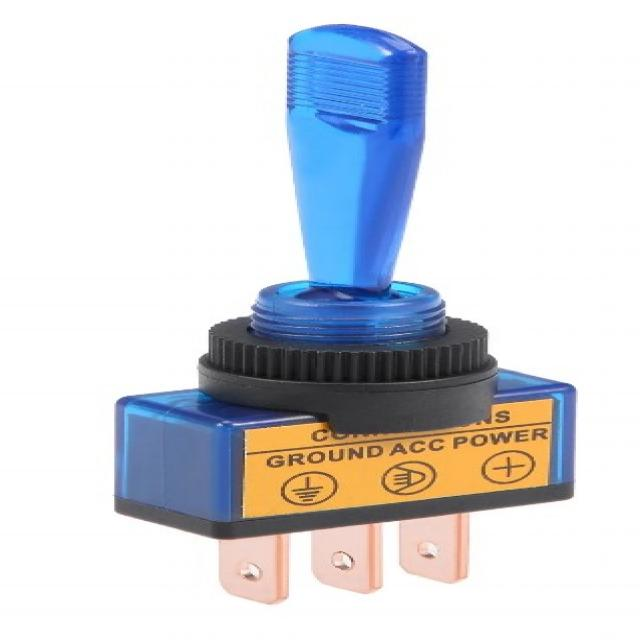toggle switch: (184, 22, 502, 436)
